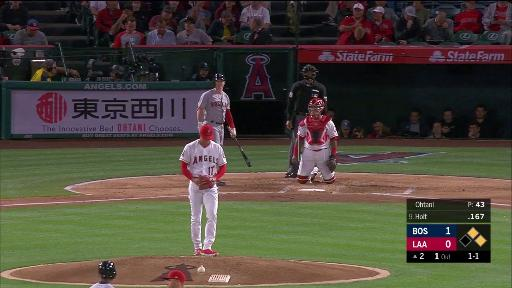pitcher: (180, 125, 228, 258)
